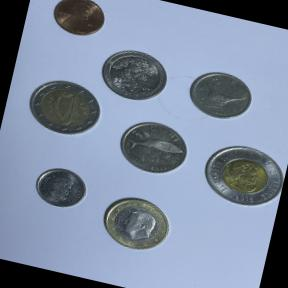1 Euro-B: (92, 188, 176, 262)
2 Euro-B: (18, 71, 109, 145)
Canada-10cent-B: (27, 159, 94, 219)
Canada-2Dollar-B: (193, 131, 288, 215)
Croatia-2Kune-B: (112, 112, 196, 183)
US-1cent-B: (45, 0, 110, 43)
US-25cent-B: (94, 42, 175, 108)
